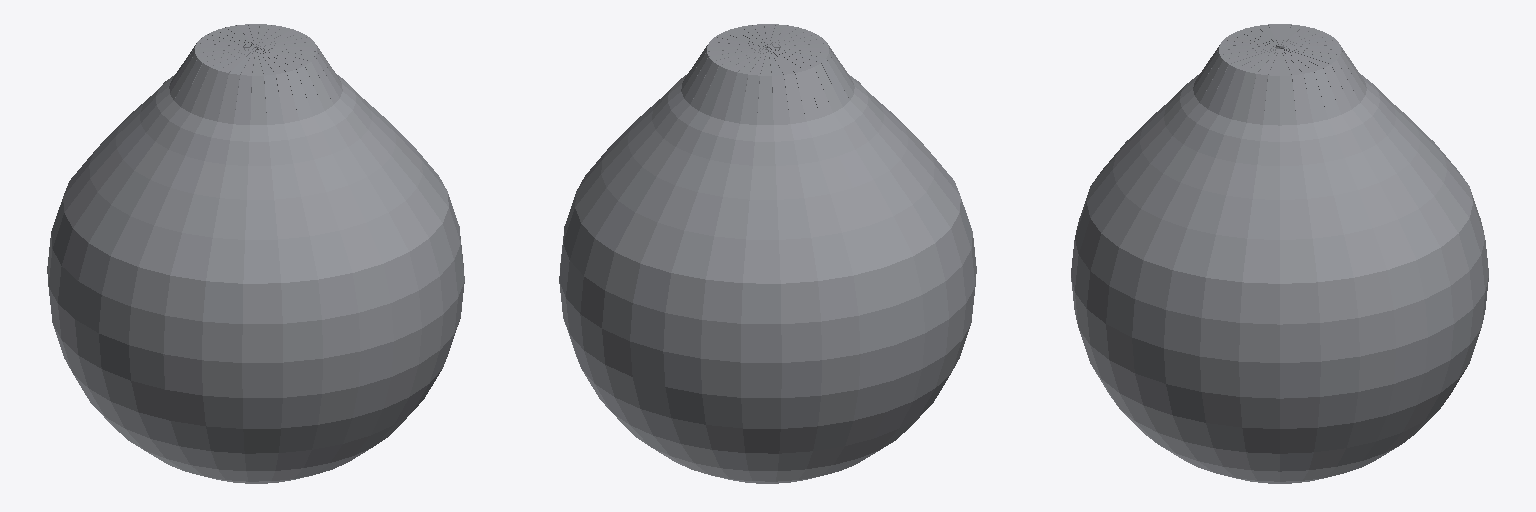
The model's file is Bear_Torso.obj.
The picture shows the model from 3 angles: view 1: azimuth 30°, elevation 25°; view 2: azimuth 150°, elevation 25°; view 3: azimuth 270°, elevation 25°; orthographic projection.
Visible parts, largest first — view 1: Sphere; view 2: Sphere; view 3: Sphere.
Boxes of the visible parts, x1,y1,x2,y2 form: Sphere: [47, 24, 464, 483]; Sphere: [559, 24, 976, 483]; Sphere: [1071, 24, 1488, 483].
Size of the model in its own units: 3 by 3.3 by 3.